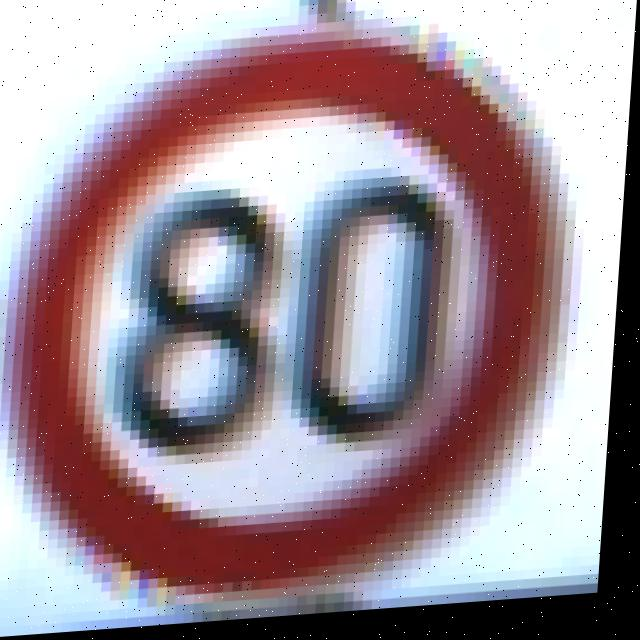speed_limit_80: (0, 10, 598, 613)
